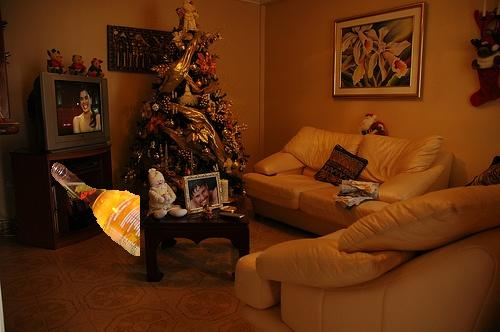tampered: (52, 163, 140, 256)
